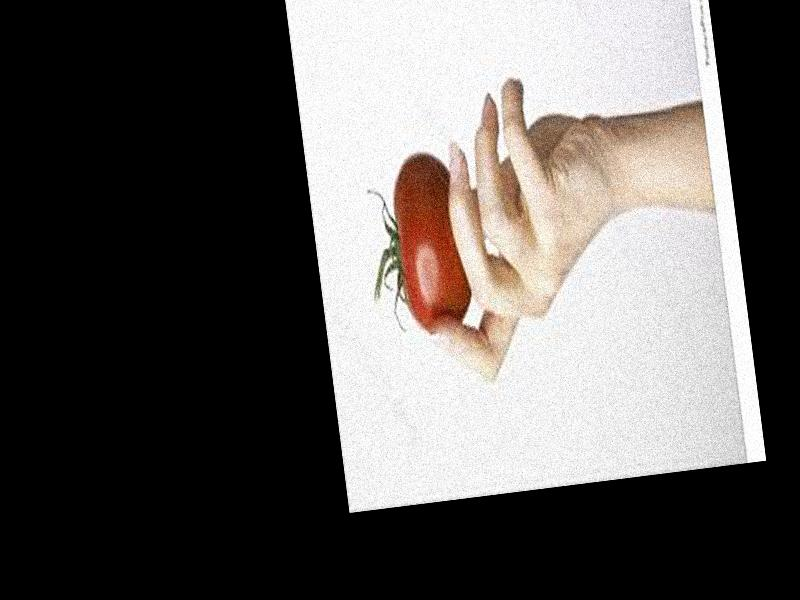Tomato: (358, 151, 474, 337)
